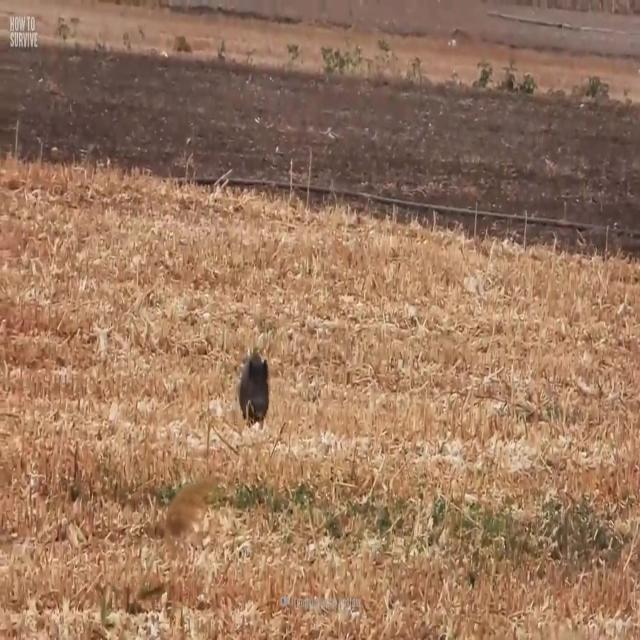pig: (222, 310, 284, 441)
